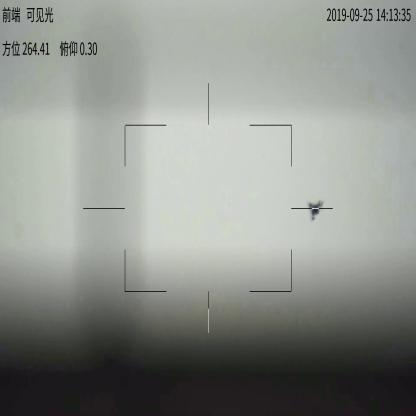uav: (307, 200, 323, 219)
